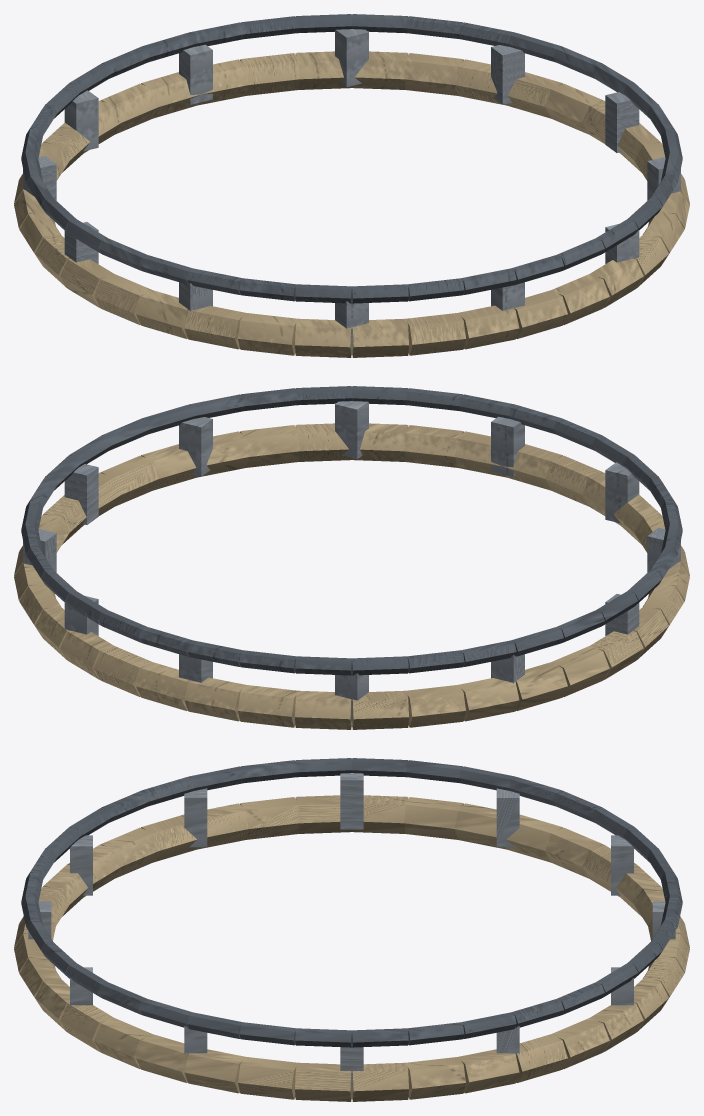
File: oscillating_platform.glb
3 renders of one model, top to bottom at view 1: azimuth 30°, elevation 25°; view 2: azimuth 150°, elevation 25°; view 3: azimuth 270°, elevation 25°, orthographic.
Visible parts, largest first — view 1: gold, iron, steel; view 2: gold, iron, steel; view 3: gold, iron, steel.
Part boxes in pixels (bbox=[...]): gold: bbox=[14, 51, 689, 357]; iron: bbox=[21, 14, 682, 303]; steel: bbox=[23, 29, 680, 349]; gold: bbox=[14, 423, 689, 729]; iron: bbox=[21, 386, 682, 675]; steel: bbox=[23, 401, 680, 721]; gold: bbox=[14, 795, 689, 1101]; iron: bbox=[21, 758, 682, 1047]; steel: bbox=[28, 773, 675, 1093].
Bounding box in the file's own units: 4.7 × 0.5145 × 4.7.
3 materials, 3 textured.
